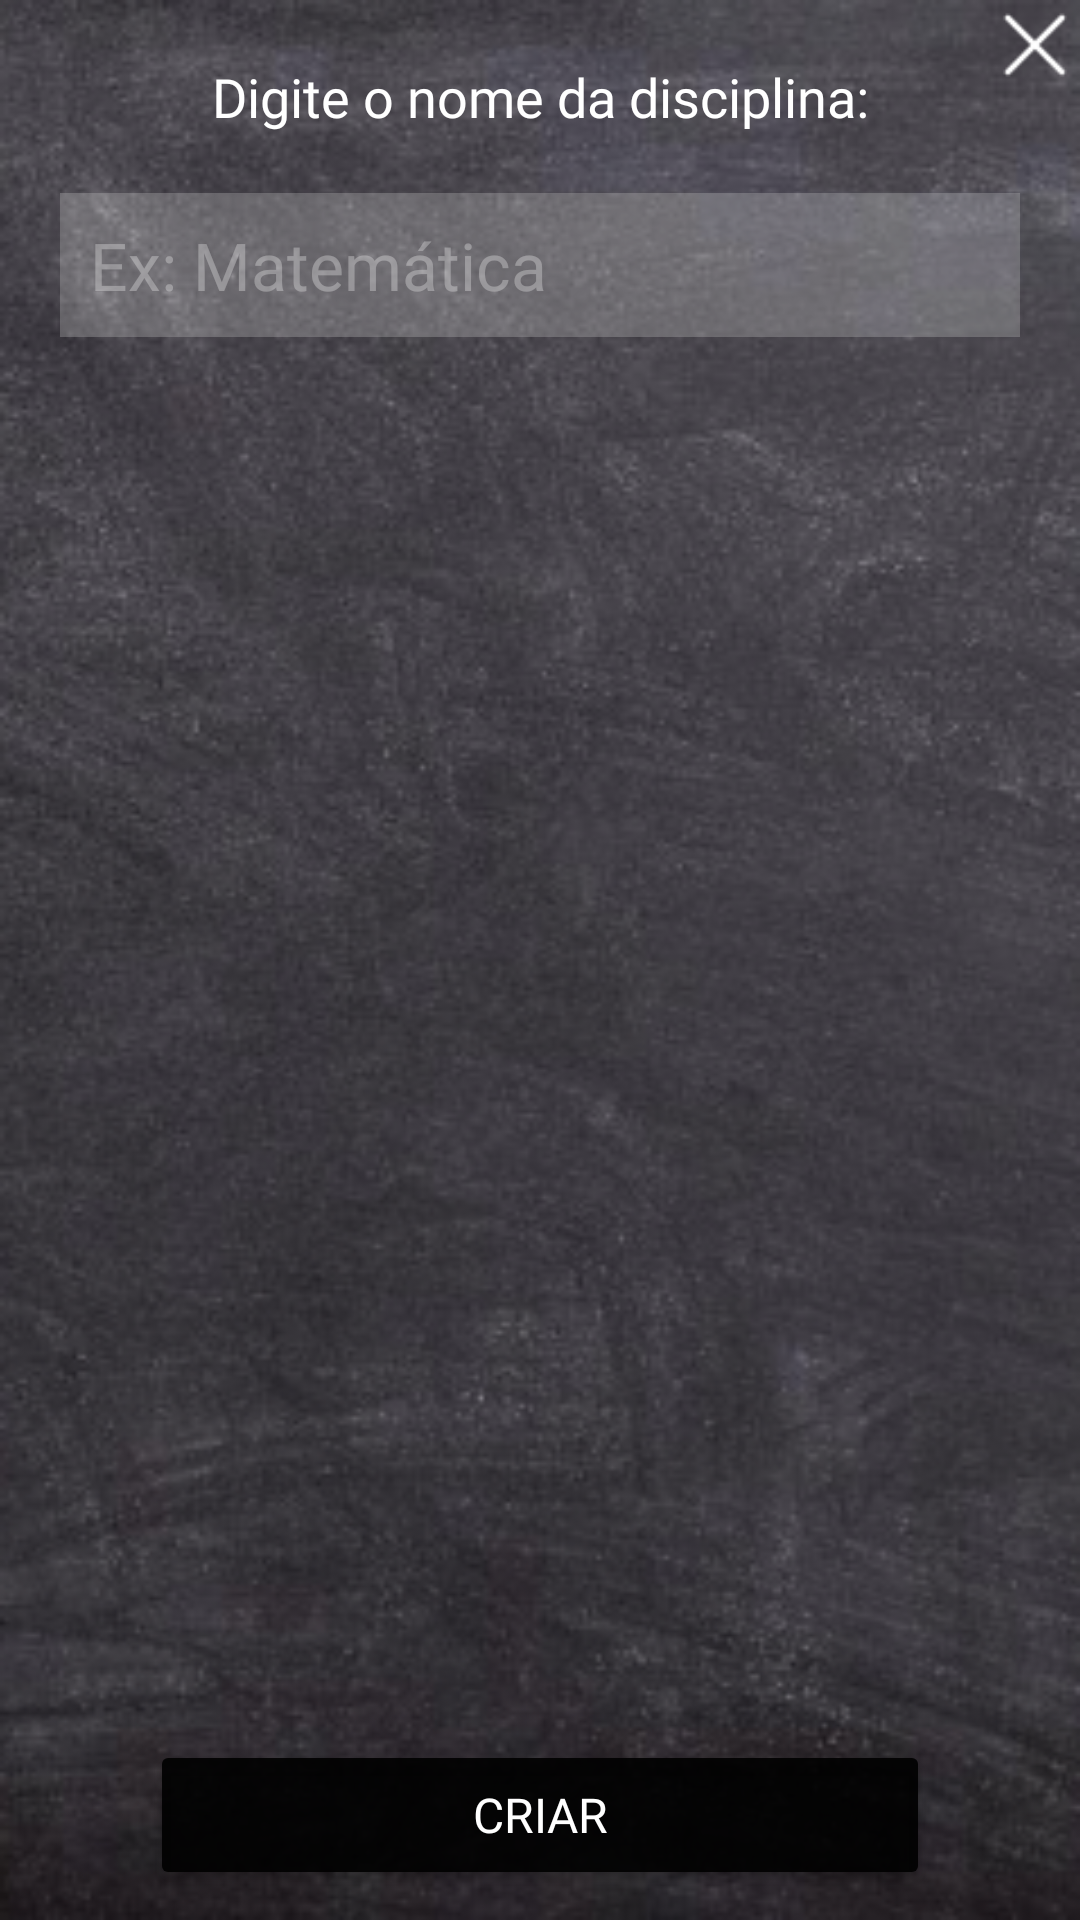

Screen size 1080w x 1920h. Icon name, then its box in pixels as (x1,y1,x2,y2):
fechar: (1004,14,1067,84)
